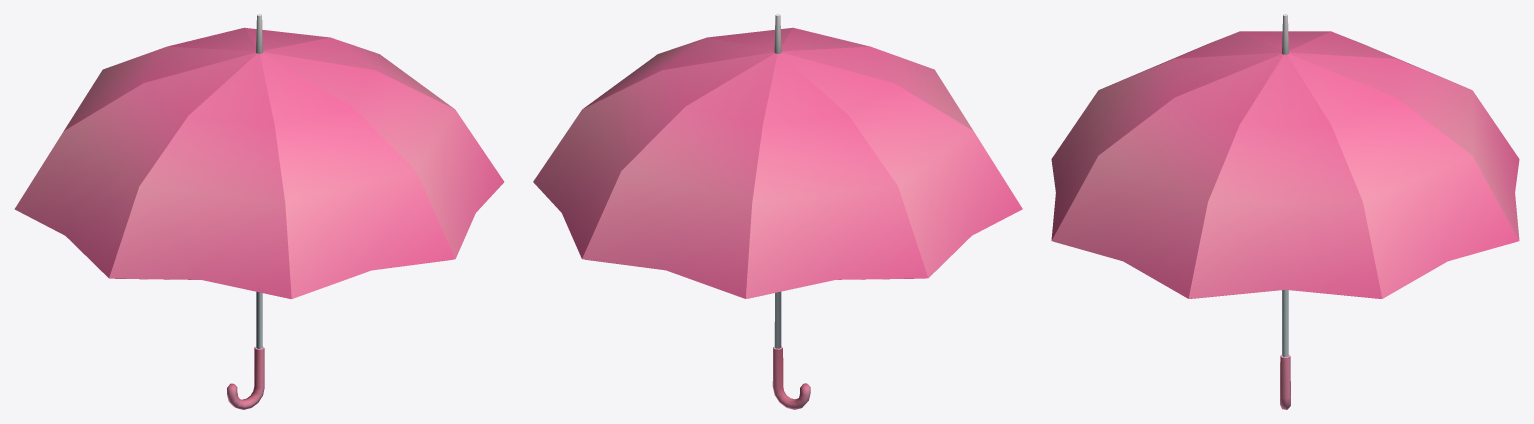
File: CR_Umbrella_01.FBX
3 views of the same model, side by side, from view 1: azimuth 30°, elevation 25°; view 2: azimuth 150°, elevation 25°; view 3: azimuth 270°, elevation 25° (orthographic). The views are drawn at different scales.
Visible parts, largest first — view 1: CR_Umbrella_01; view 2: CR_Umbrella_01; view 3: CR_Umbrella_01.
Boxes of the visible parts, x1,y1,x2,y2 form: CR_Umbrella_01: (14, 14, 504, 409); CR_Umbrella_01: (533, 14, 1022, 409); CR_Umbrella_01: (1051, 14, 1519, 409).
Size of the model in its own units: 78.27 by 73.76 by 78.27.
